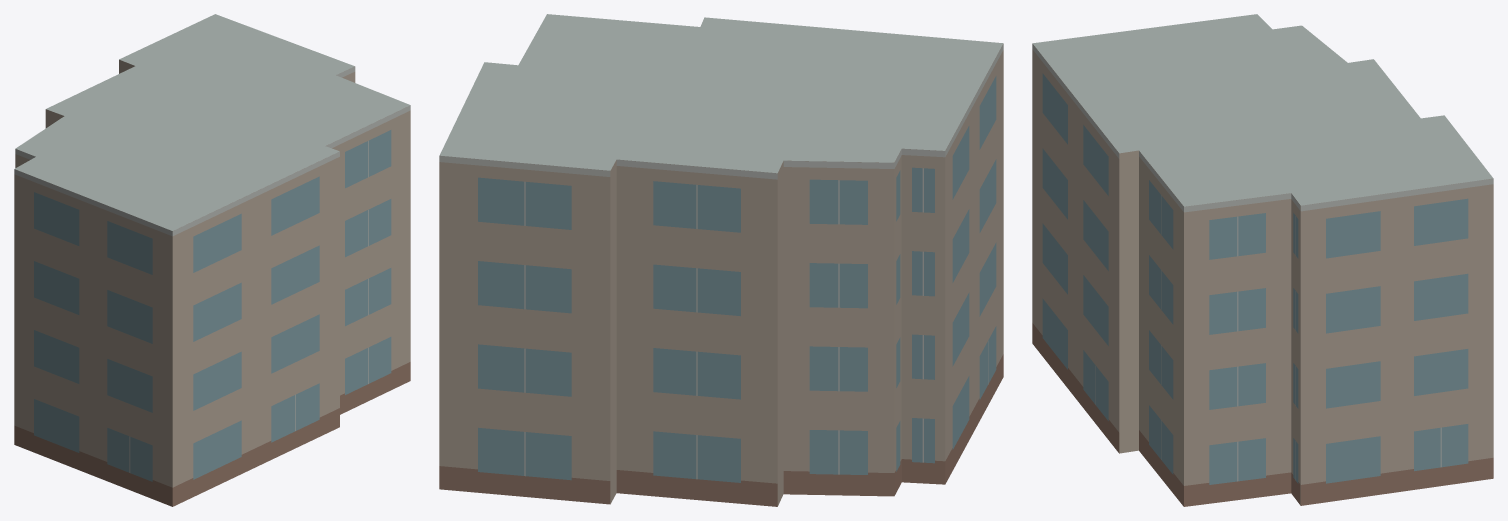
File: survey-upis-32930664.glb
3 renders of one model, left to right at view 1: azimuth 30°, elevation 25°; view 2: azimuth 150°, elevation 25°; view 3: azimuth 270°, elevation 25°, orthographic. The views are drawn at different scales.
Visible parts, largest first — view 1: survey-upis-32930664.tmp; view 2: survey-upis-32930664.tmp; view 3: survey-upis-32930664.tmp.
Boxes of the visible parts, left/top/right/bottom form: survey-upis-32930664.tmp: left=14, top=14, right=410, bottom=506; survey-upis-32930664.tmp: left=439, top=14, right=1003, bottom=506; survey-upis-32930664.tmp: left=1032, top=14, right=1493, bottom=506.
Bounding box in the file's own units: 17.63 × 12.8 × 17.83.
